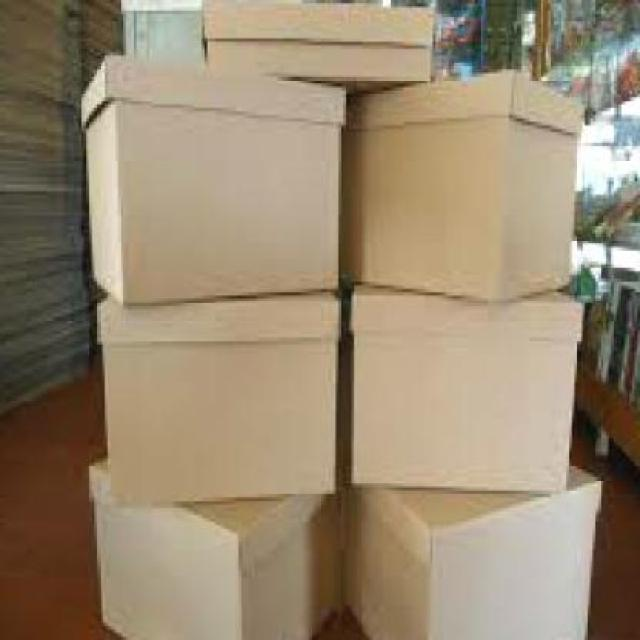box: (74, 49, 349, 303), (352, 69, 594, 320), (86, 295, 342, 508), (346, 276, 583, 502), (74, 452, 352, 637), (350, 488, 612, 637), (192, 0, 442, 91)
